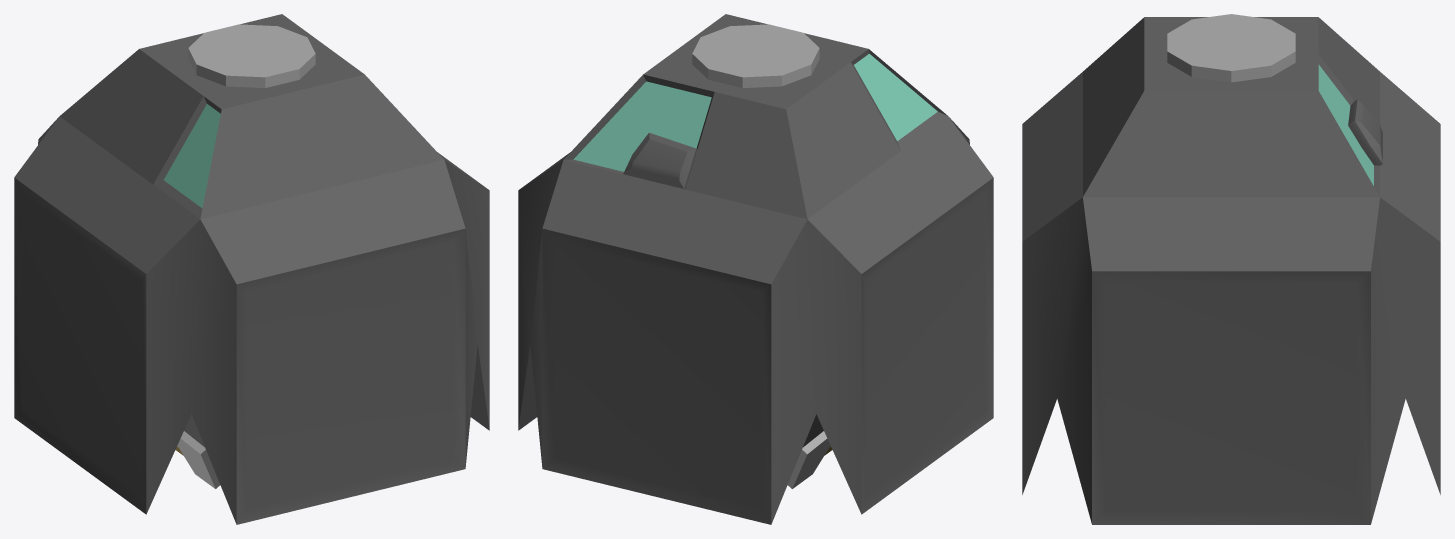
The model's file is Plug1.fbx.
3 renders of one model, left to right at view 1: azimuth 30°, elevation 25°; view 2: azimuth 150°, elevation 25°; view 3: azimuth 270°, elevation 25°, orthographic. The views are drawn at different scales.
Parts seen in each view (by area): view 1: Plug1; view 2: Plug1; view 3: Plug1.
Boxes of the visible parts, x1,y1,x2,y2 form: Plug1: (14, 14, 489, 524); Plug1: (518, 14, 993, 524); Plug1: (1022, 14, 1440, 524).
Size of the model in its own units: 12 by 13 by 12.
